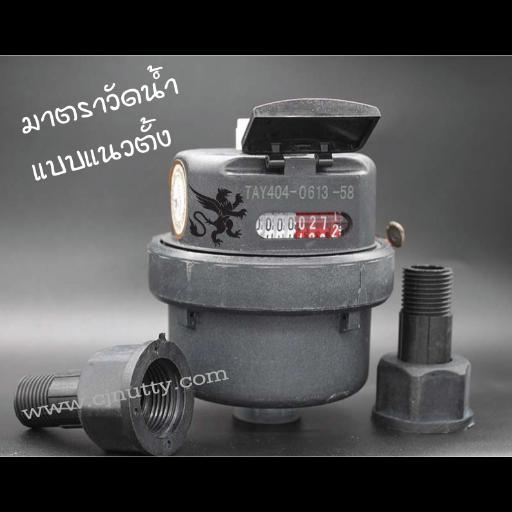0: (264, 212, 277, 238), (276, 212, 288, 238), (295, 212, 307, 238), (255, 212, 265, 238), (287, 212, 296, 238)
1: (329, 213, 341, 238)
2: (307, 212, 319, 238)
7: (317, 212, 330, 238)
border_water_meter_number: (255, 212, 353, 239)
